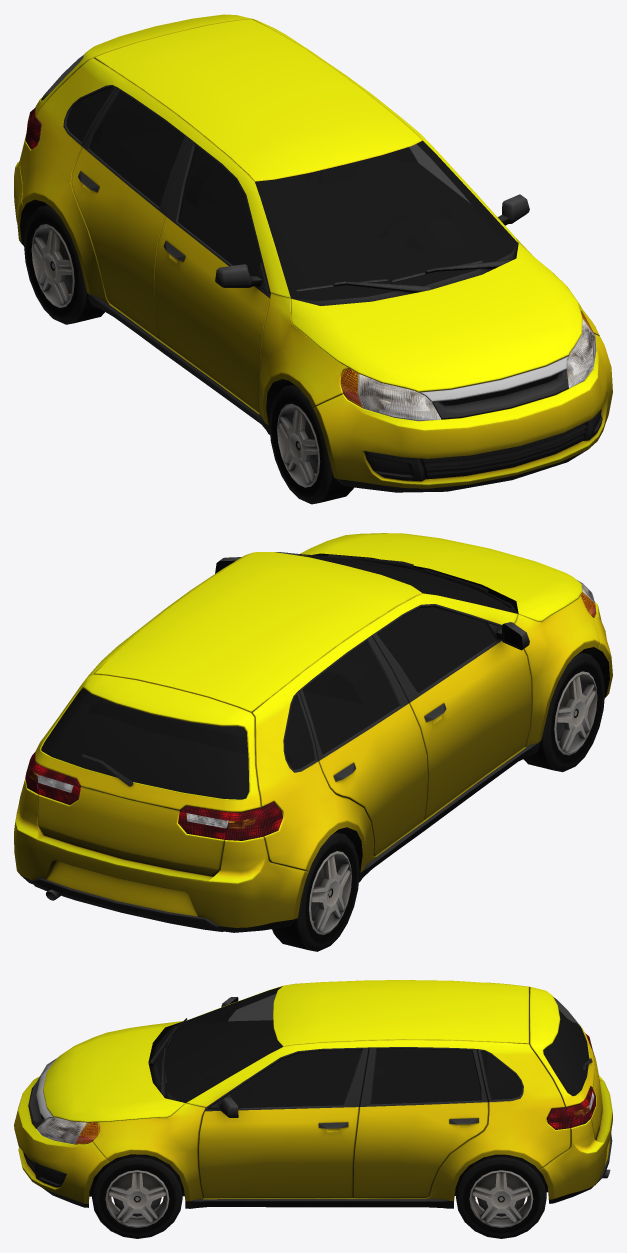
Rendered from Hatchback.FBX.
3 views of the same model, one above another, from view 1: azimuth 30°, elevation 25°; view 2: azimuth 150°, elevation 25°; view 3: azimuth 270°, elevation 25° (orthographic). The views are drawn at different scales.
Parts seen in each view (by area): view 1: Hatchback Body, Wheel_B002, Wheel_B003; view 2: Hatchback Body, Wheel_B003, Wheel_B002; view 3: Hatchback Body, Wheel_B, Wheel_B001.
Boxes of the visible parts, <box> form: Hatchback Body: <box>14,14,612,492</box>; Wheel_B002: <box>269,384,354,504</box>; Wheel_B003: <box>24,205,104,324</box>; Hatchback Body: <box>14,533,612,932</box>; Wheel_B003: <box>272,832,359,951</box>; Wheel_B002: <box>523,652,604,772</box>; Hatchback Body: <box>14,980,612,1208</box>; Wheel_B: <box>92,1154,182,1238</box>; Wheel_B001: <box>456,1154,546,1238</box>.
Bounding box in the file's own units: 1960 × 1522 × 4451.
4 materials, 3 textured.
